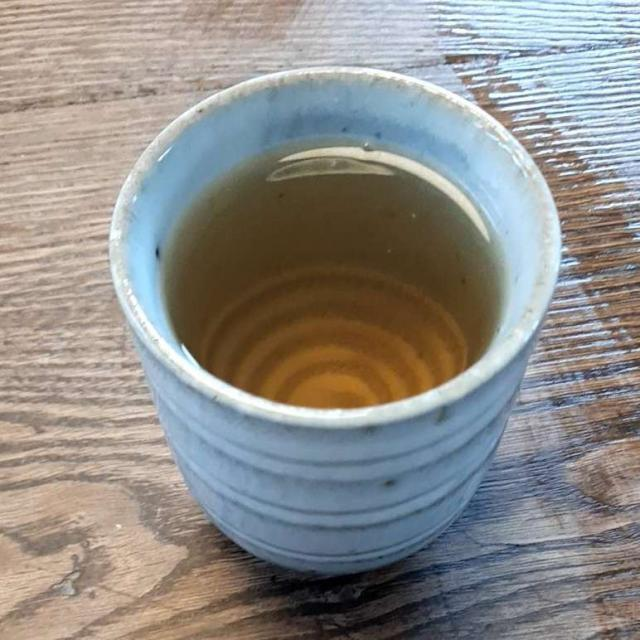tea: (160, 142, 496, 410)
